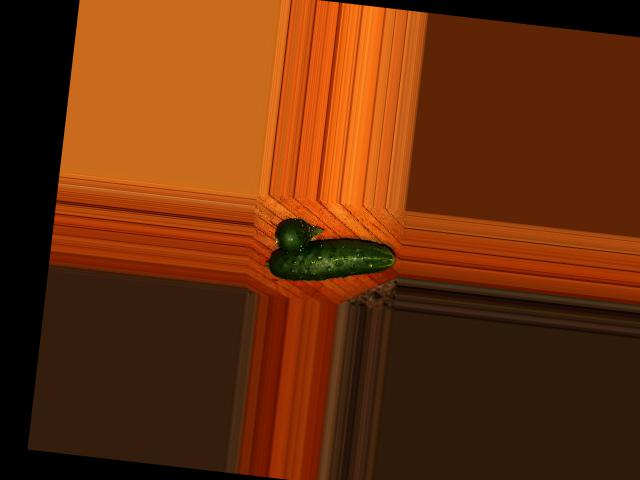cucumber: (266, 229, 397, 290)
